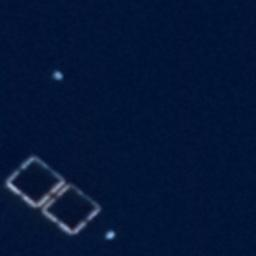square_solid: (36, 177, 107, 241), (3, 151, 69, 213)
